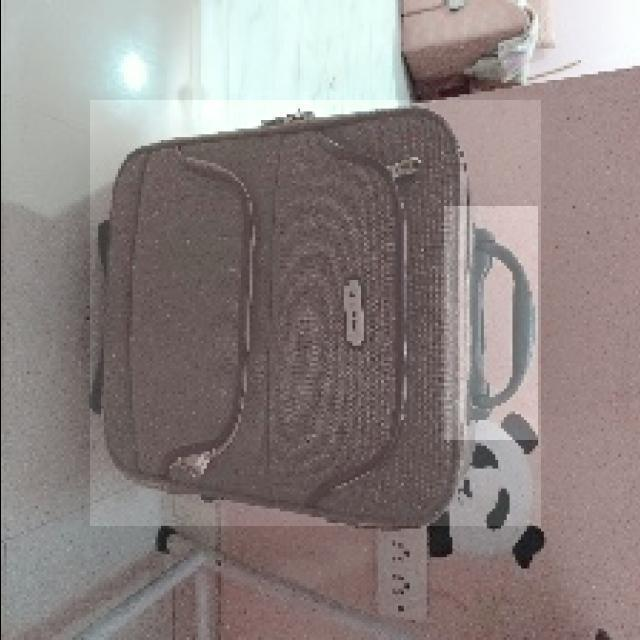Suitcase: (91, 104, 536, 528)
